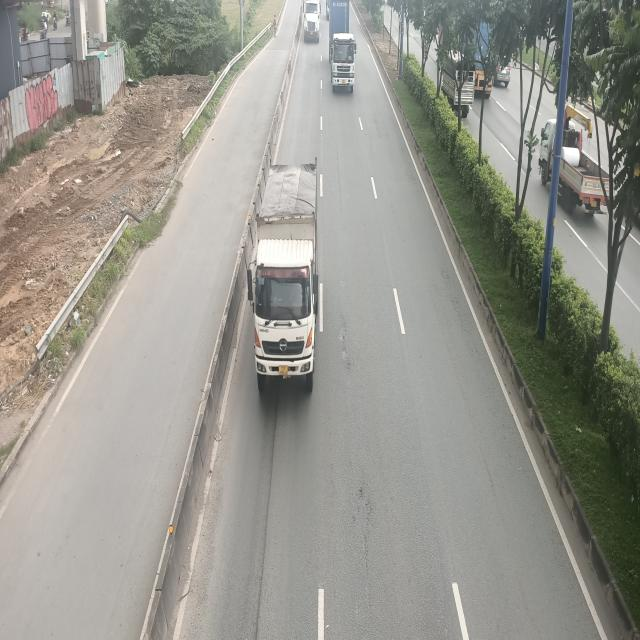container: (330, 0, 358, 93), (304, 0, 322, 42)
truck: (247, 166, 326, 393)
